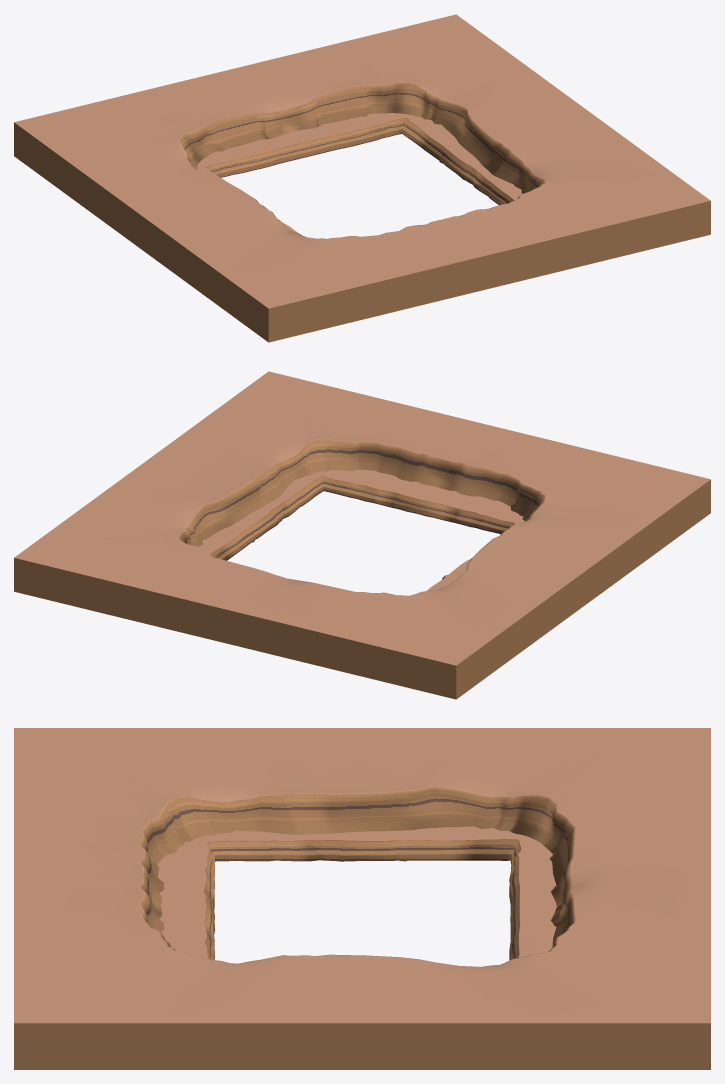
File: BO_Mountain_02.fbx
The picture shows the model from 3 angles, top to bottom: view 1: azimuth 30°, elevation 25°; view 2: azimuth 150°, elevation 25°; view 3: azimuth 270°, elevation 25°; orthographic projection. The views are drawn at different scales.
Parts seen in each view (by area): view 1: BO_Mountain_DM_01; view 2: BO_Mountain_DM_01; view 3: BO_Mountain_DM_01.
Boxes of the visible parts, x1,y1,x2,y2 form: BO_Mountain_DM_01: (14,14,710,342); BO_Mountain_DM_01: (14,371,710,699); BO_Mountain_DM_01: (14,728,710,1069).
Size of the model in its own units: 16531 by 1307 by 16488.
